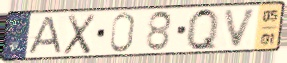0: (109, 11, 136, 55)
8: (144, 9, 175, 53)
A: (24, 15, 65, 56)
Q: (186, 6, 220, 52)
V: (222, 7, 260, 49)
X: (61, 12, 98, 57)
